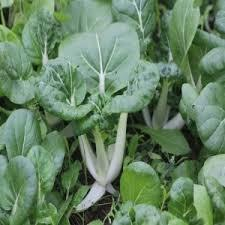Healthy-Pechay: (7, 8, 213, 178)
